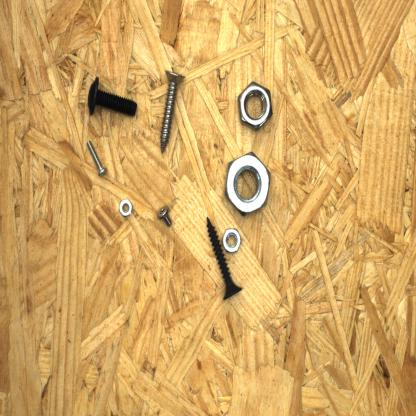screw: (204, 213, 245, 303), (82, 69, 139, 122), (158, 65, 187, 156), (85, 137, 109, 181), (155, 201, 173, 231)
